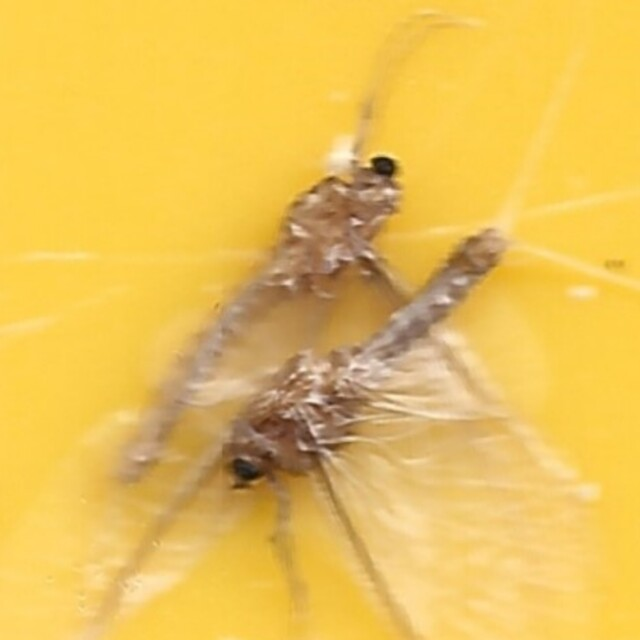Ephemeroptera: (135, 147, 416, 461), (214, 217, 505, 493)
